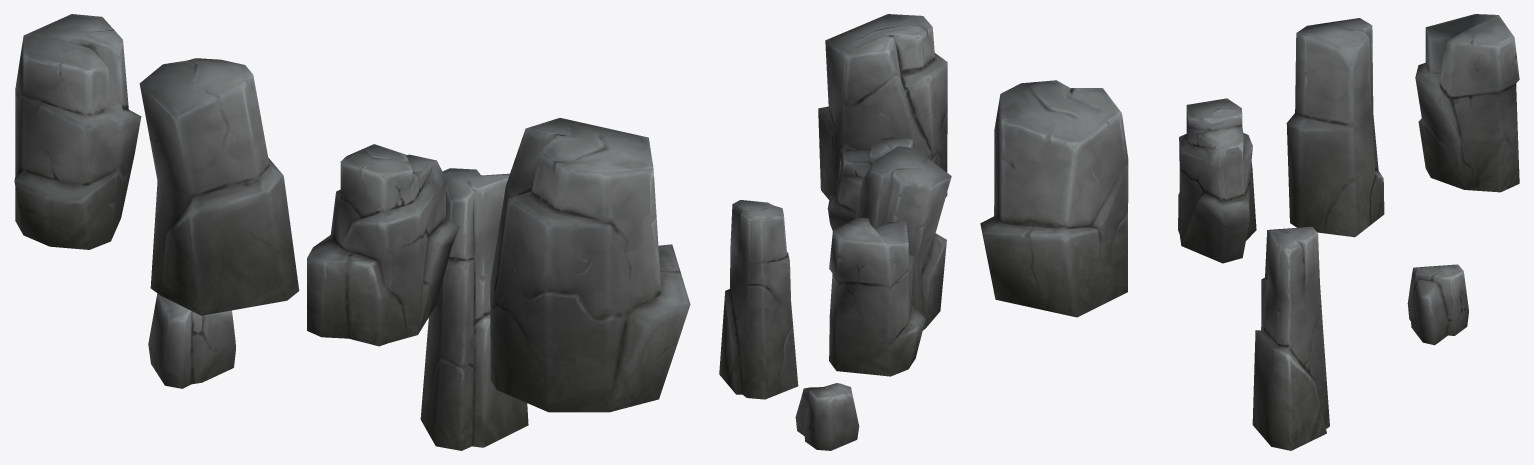
File: rocks.glb
3 views of the same model, side by side, from view 1: azimuth 30°, elevation 25°; view 2: azimuth 150°, elevation 25°; view 3: azimuth 270°, elevation 25° (orthographic). The views are drawn at different scales.
Parts seen in each view (by area): view 1: Rock1, Rock4, Rock2, Rock3, Rock5, Rock6; view 2: Rock1, Rock2, Rock5, Rock4, Rock6, Rock3; view 3: Rock1, Rock4, Rock2, Rock5, Rock3, Rock6.
Part boxes in pixels (bbox=[...]): Rock1: bbox=[490, 118, 690, 412]; Rock4: bbox=[139, 58, 299, 315]; Rock2: bbox=[14, 14, 141, 249]; Rock3: bbox=[307, 144, 459, 346]; Rock5: bbox=[420, 168, 528, 450]; Rock6: bbox=[148, 293, 235, 388]; Rock1: bbox=[818, 14, 947, 199]; Rock2: bbox=[829, 217, 925, 376]; Rock5: bbox=[719, 200, 798, 399]; Rock4: bbox=[855, 146, 951, 330]; Rock6: bbox=[795, 383, 859, 450]; Rock3: bbox=[827, 137, 912, 230]; Rock1: bbox=[980, 80, 1128, 317]; Rock4: bbox=[1286, 18, 1384, 237]; Rock2: bbox=[1415, 14, 1519, 192]; Rock5: bbox=[1252, 226, 1329, 450]; Rock3: bbox=[1178, 98, 1256, 263]; Rock6: bbox=[1407, 264, 1468, 345].
Size of the model in its own units: 4.46 by 4.35 by 6.62.
1 material, 1 textured.
